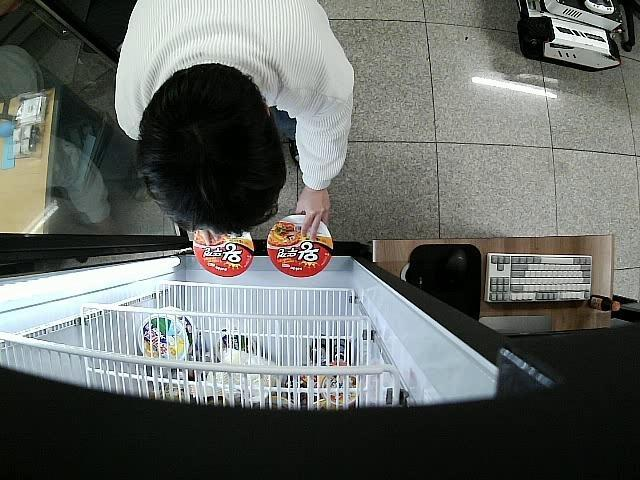10_wangTtukkeong: (268, 215, 332, 279), (190, 231, 254, 285)
